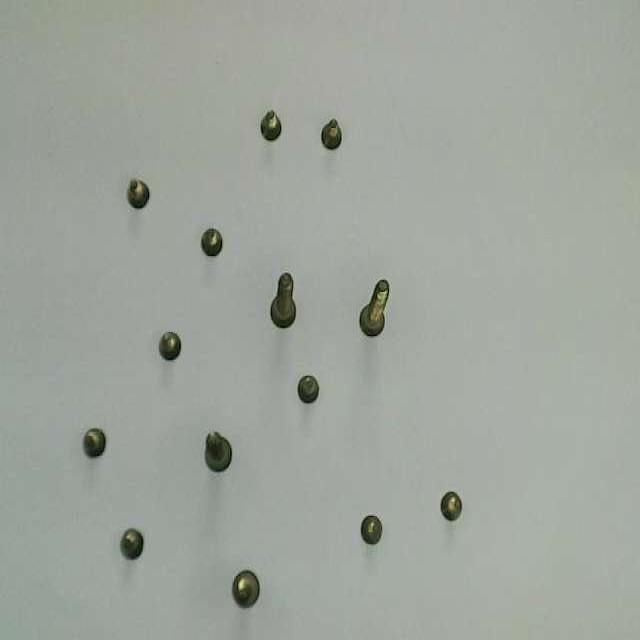Parafuso: (359, 280, 388, 333), (270, 273, 294, 327), (205, 432, 231, 471), (232, 571, 259, 607), (120, 529, 143, 559), (83, 428, 105, 456), (442, 491, 462, 520), (261, 111, 281, 140), (159, 333, 180, 360), (201, 229, 222, 256), (129, 179, 149, 207), (321, 120, 341, 148), (362, 515, 381, 544), (299, 375, 317, 403)
